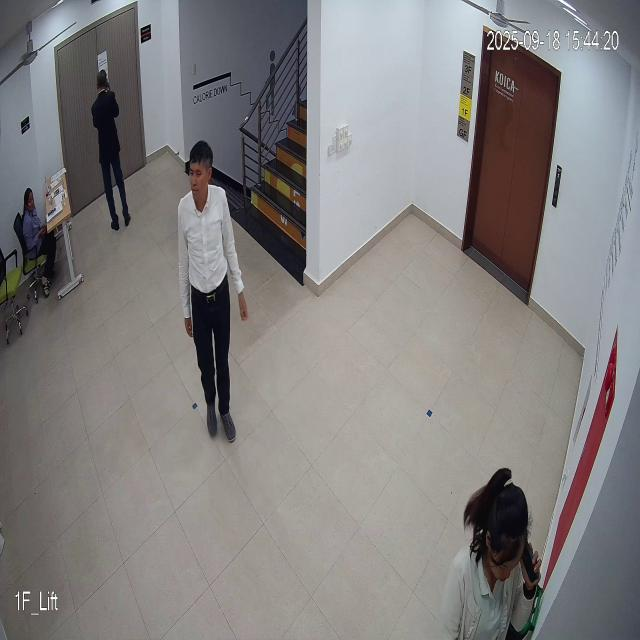face: (188, 137, 213, 204)
